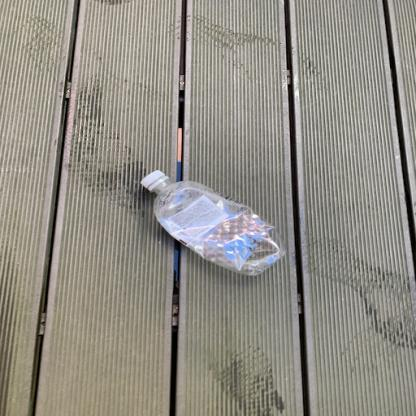trash: (136, 169, 287, 277)
